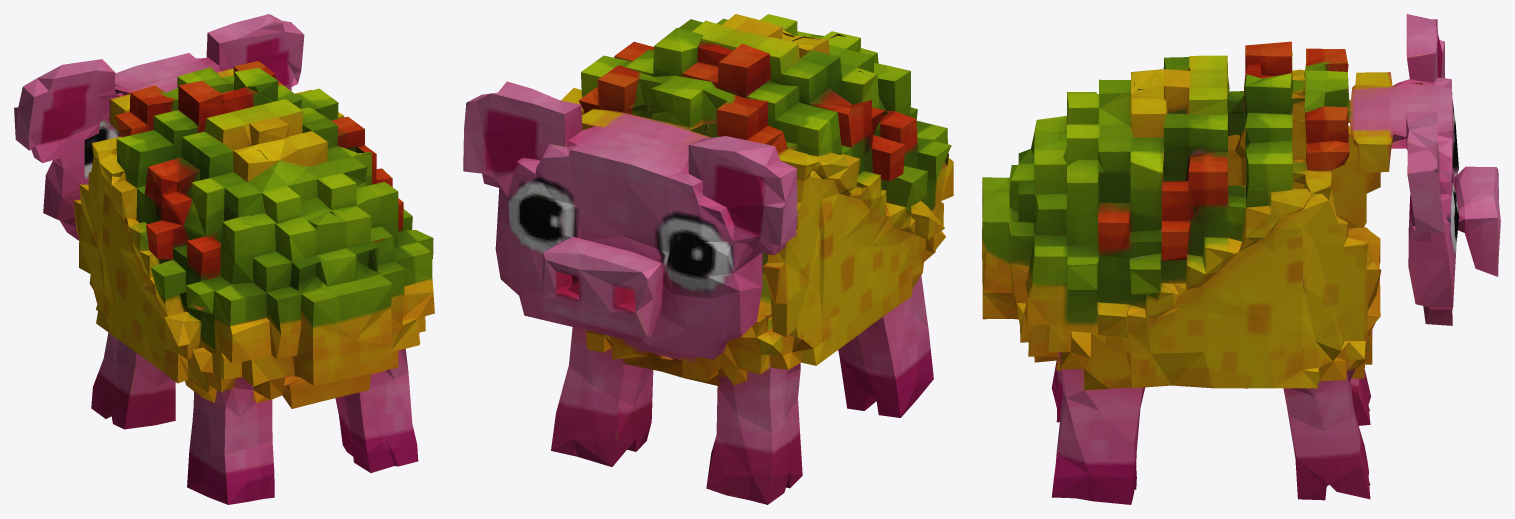
The model's file is MaialinoTaco.glb.
The picture shows the model from 3 angles, left to right: view 1: azimuth 30°, elevation 25°; view 2: azimuth 150°, elevation 25°; view 3: azimuth 270°, elevation 25°; orthographic projection. The views are drawn at different scales.
Parts seen in each view (by area): view 1: geometry_0; view 2: geometry_0; view 3: geometry_0.
Part boxes in pixels (x1,y1,x2,y2): geometry_0: (14,14,434,504); geometry_0: (463,14,953,504); geometry_0: (982,14,1500,504).
Size of the model in its own units: 0.8504 by 1 by 1.22.
1 material, 1 textured.
